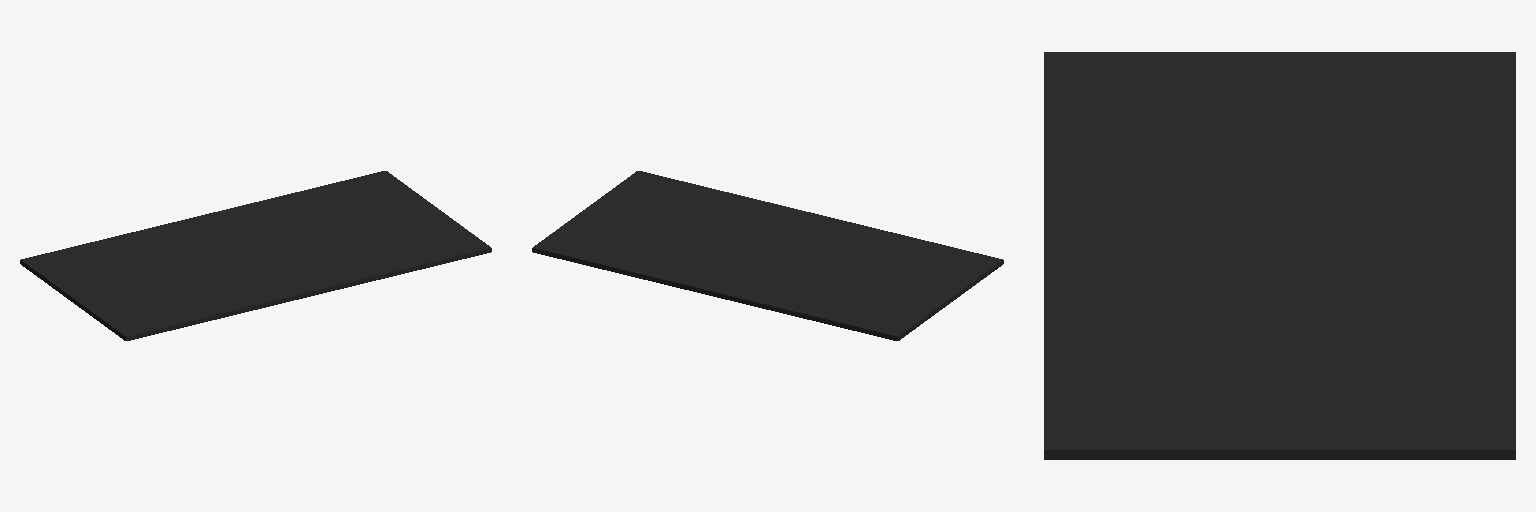
robot.urdf — ground_skeleton:
<?xml version="1.0"?>
<robot name="ground_skeleton">
    <material name="gray">
        <color rgba="0.2 0.2 0.2 0.4"/>
    </material>

    <link name="world" />
    <link name="ground_link">
        <inertial>
            <mass value="1.0" />
            <origin xyz="0 0 0" rpy="0 0 0" />
            <inertia ixx="1.0" ixy="0" ixz="0" iyy="1.0" iyz="0" izz="1.0" />
        </inertial>
        <visual>
            <origin xyz="0 0 0" rpy="0 -0 0" />
            <geometry>
                <box size="4.0 2.0 0.05" />
            </geometry>
            <material name="gray" />
        </visual>
        <collision>
            <origin xyz="0 0 0" rpy="0 -0 0" />
            <geometry>
                <box size="4.0 2.0 0.05" />
            </geometry>
        </collision>
    </link>
    <joint name="ground_joint" type="fixed">
        <origin xyz="0 0 0" rpy="0 0 0" />
        <parent link="world" />
        <child link="ground_link" />
    </joint>
</robot>

--- Render facts (derived) ---
3 views of the same robot in one strip: view 1: azimuth 30°, elevation 25°; view 2: azimuth 150°, elevation 25°; view 3: azimuth 270°, elevation 25° (orthographic).
Robot: ground_skeleton — 2 links, 1 joints (1 fixed); root link world; default pose: every joint at zero.
Links seen in each view (by area): view 1: ground_link; view 2: ground_link; view 3: ground_link.
Link boxes in pixels (box(x1,y1,x2,y2)): ground_link: box(20, 171, 491, 340); ground_link: box(532, 171, 1003, 340); ground_link: box(1044, 52, 1515, 459).
Size in the robot's own frame: 4 by 2 by 0.05 metres.
Geometry: primitives only (box / cylinder / sphere), no mesh files.